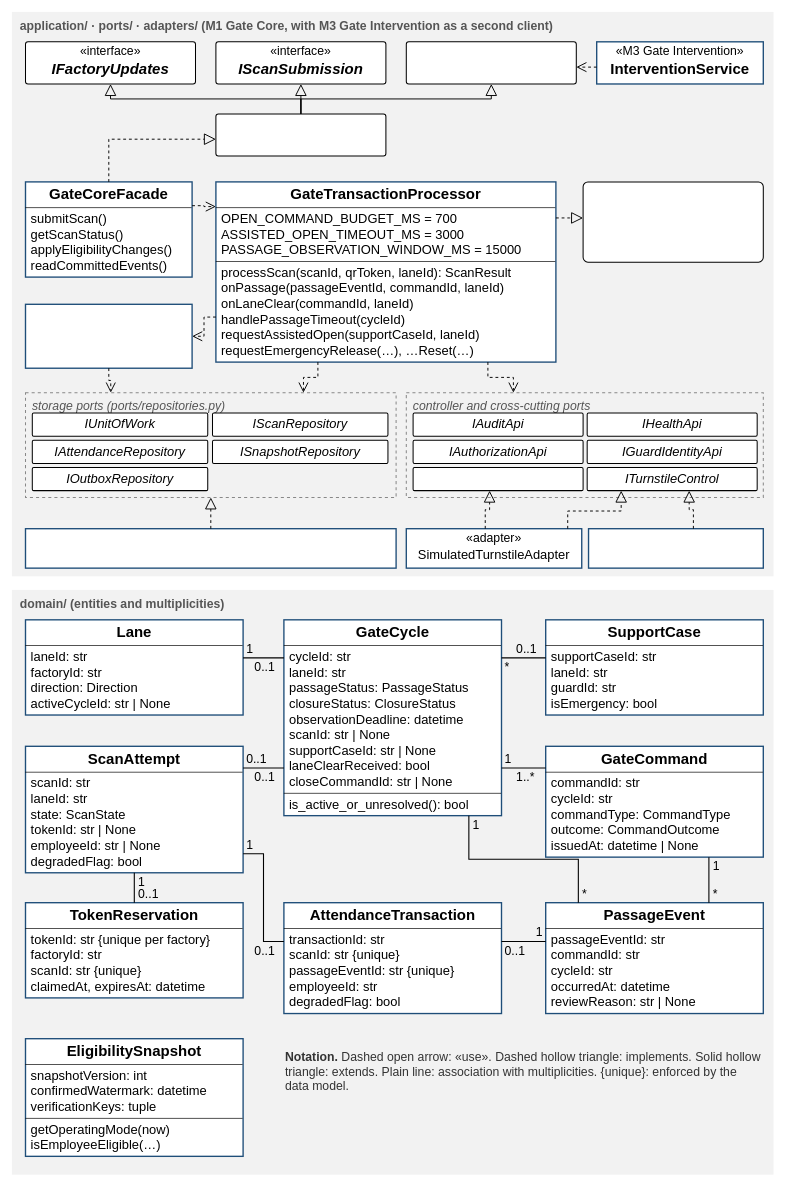
This 785x1186 diagram has some shape labels left out. Each missing label, with the box of its shape:
AccessDecision evaluate(qrToken, laneId) : DecisionResult: (24, 303, 192, 369)
IControllerStatusQuery: (412, 467, 583, 491)
«adapters» SqliteUnitOfWork, Sqlite…Repository ×4: (24, 528, 396, 568)
«adapter» FaultyTurnstileAdapter: (588, 528, 764, 568)
«interface» GateCoreApi: (215, 113, 386, 156)
«interface» IInterventionRequest: (405, 41, 577, 84)
«interface» IPassageEvents onPassage() onLaneClear(): (582, 181, 764, 262)
